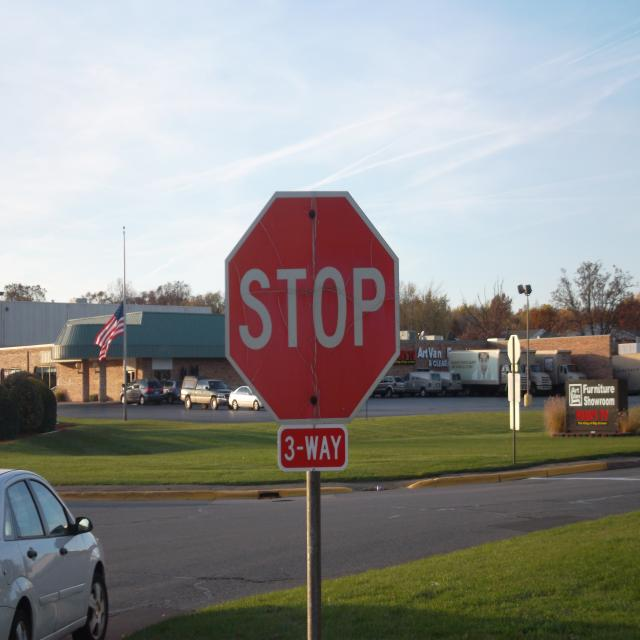regulatory: (270, 419, 356, 474)
stop: (221, 185, 404, 426)
